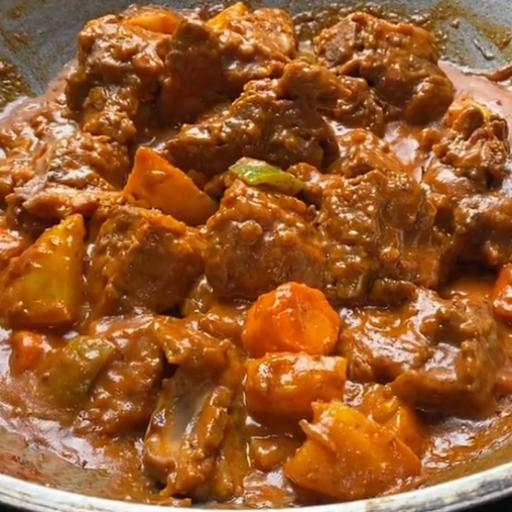pork caldereta: (0, 12, 511, 473)
